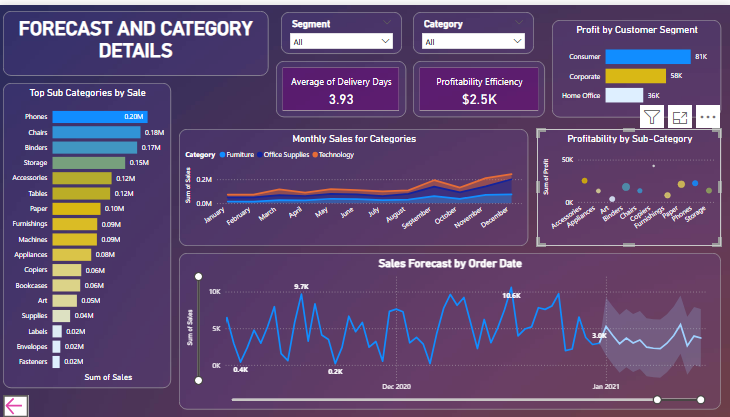

This screenshot's page, from the dashboard's own definition file:
{"tool":"powerbi","page":{"name":"Product and Customer Insights","canvas":[1280,720],"ordinal":1},"visuals":[{"type":"barChart","title":"Top Sub Categories by Sale","fields":{"Y":["Sum(SuperStore_Sales_Dataset.Sales)"],"Category":["SuperStore_Sales_Dataset.Sub-Category"]},"box":[8.9,135.7,292.9,532.1],"z":0},{"type":"barChart","title":"Profit by Customer Segment ","fields":{"Category":["SuperStore_Sales_Dataset.Payment Mode","SuperStore_Sales_Dataset.Segment"],"Y":["Sum(SuperStore_Sales_Dataset.Profit)"]},"box":[966.1,26.8,294.6,169.6],"z":1000},{"type":"stackedAreaChart","title":"Monthly Sales for Categories","fields":{"Category":["SuperStore_Sales_Dataset.Order Date.Variation.Date Hierarchy.Month"],"Y":["Sum(SuperStore_Sales_Dataset.Sales)"],"Series":["SuperStore_Sales_Dataset.Category"]},"box":[316.1,216.1,608.9,203.6],"z":2000},{"type":"textbox","box":[8.9,10.7,462.5,112.5],"z":3000},{"type":"slicer","fields":{"Values":["SuperStore_Sales_Dataset.Segment"]},"box":[492.9,12.5,210.7,73.2],"z":4000},{"type":"cardVisual","fields":{"Data":["Avg(SuperStore_Sales_Dataset.Delivery Days)"]},"box":[483.9,98.2,226.8,98.2],"z":5000},{"type":"cardVisual","fields":{"Data":["SuperStore_Sales_Dataset.Profitability Efficiency"]},"box":[723.2,98.2,230.4,98.2],"z":6000},{"type":"scatterChart","title":" Profitability by Sub-Category","fields":{"Size":["Sum(SuperStore_Sales_Dataset.Quantity)"],"X":["SuperStore_Sales_Dataset.Sub-Category"],"Y":["Sum(SuperStore_Sales_Dataset.Profit)"]},"box":[939.3,216.1,321.4,203.6],"z":7000},{"type":"lineChart","title":" Sales Forecast by Order Date","fields":{"Category":["SuperStore_Sales_Dataset.Order Date"],"Y":["Sum(SuperStore_Sales_Dataset.Sales)"]},"box":[316.1,432.1,944.6,273.2],"z":8000},{"type":"actionButton","box":[8.9,680.4,44.6,39.3],"z":9000},{"type":"slicer","fields":{"Values":["SuperStore_Sales_Dataset.Category"]},"box":[723.2,12.5,210.7,73.2],"z":10000}]}

Visuals, with their boxes in screenshot pixels (x1, y1, x2, y2), scaled from the page's 1280x720 canvas onto the 730x417 screenshot:
"Top Sub Categories by Sale" barChart: left=5, top=79, right=172, bottom=387
"Profit by Customer Segment " barChart: left=551, top=16, right=719, bottom=114
"Monthly Sales for Categories" stackedAreaChart: left=180, top=125, right=528, bottom=243
textbox: left=5, top=6, right=269, bottom=71
slicer - SuperStore_Sales_Dataset.Segment: left=281, top=7, right=401, bottom=50
cardVisual - Avg(SuperStore_Sales_Dataset.Delivery Days): left=276, top=57, right=405, bottom=114
cardVisual - SuperStore_Sales_Dataset.Profitability Efficiency: left=412, top=57, right=544, bottom=114
" Profitability by Sub-Category" scatterChart: left=536, top=125, right=719, bottom=243
" Sales Forecast by Order Date" lineChart: left=180, top=250, right=719, bottom=408
actionButton: left=5, top=394, right=31, bottom=416
slicer - SuperStore_Sales_Dataset.Category: left=412, top=7, right=533, bottom=50
